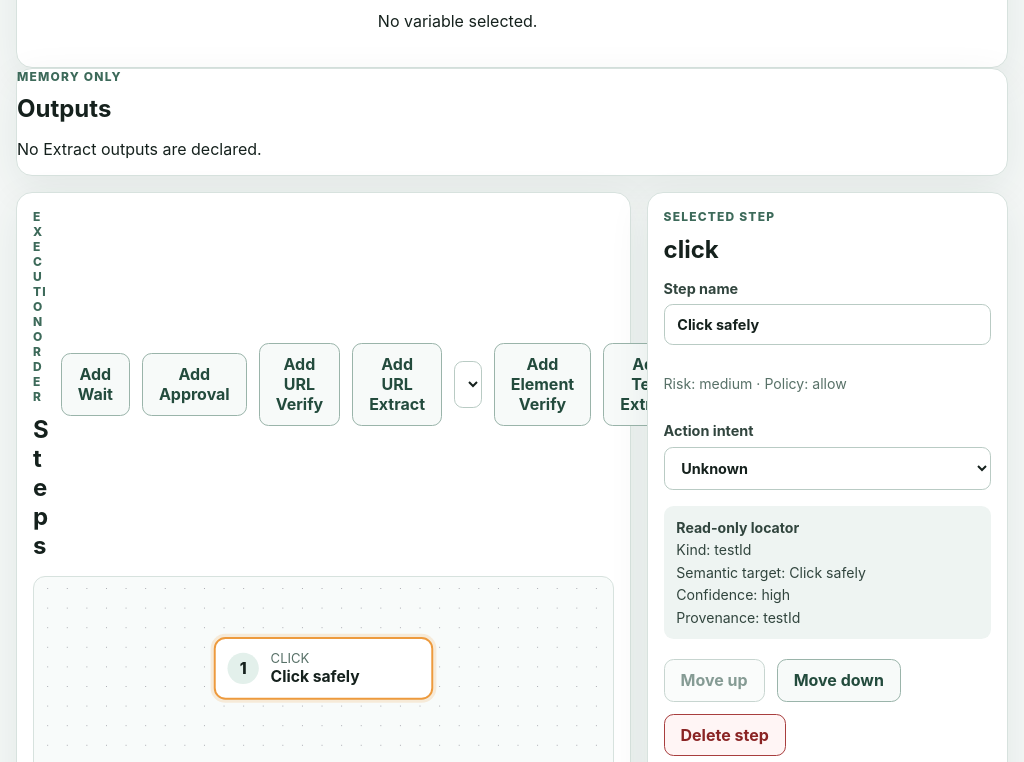
Scenario: WorkflowEditor › adds URL and locator-reuse Verify steps without exposing locator editing
(page scrolled)
Click the button "Add URL Verify": (299, 384) [259, 343, 340, 426]
(page scrolled)
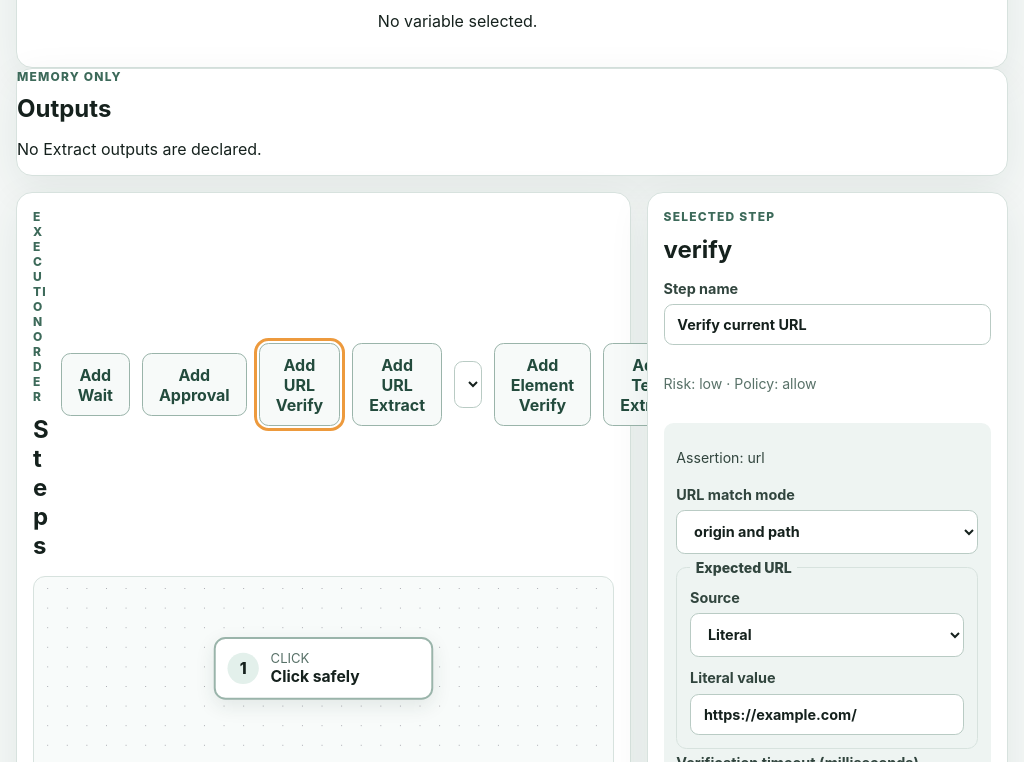
Expected: the dropdown labelled "URL match mode" is enabled, [676, 510, 978, 554]
Select "Click safely" in the dropdown named "Locator source step": (468, 385) [454, 361, 482, 408]
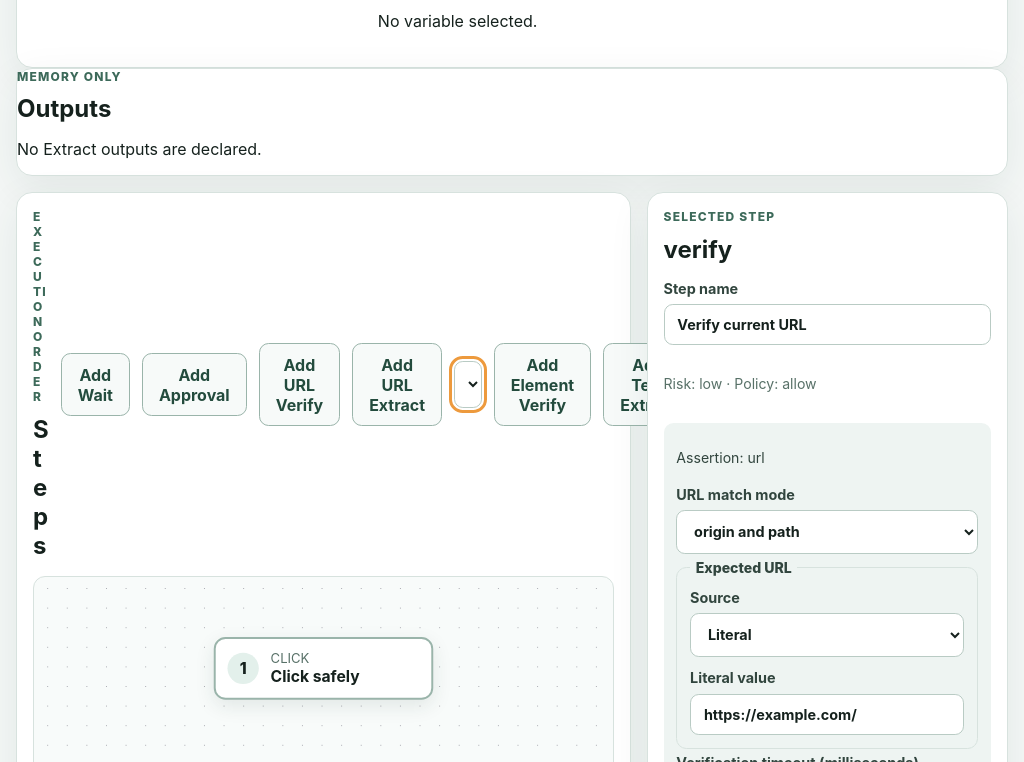
Click the button "Add Element Verify": (542, 385) [494, 343, 591, 426]
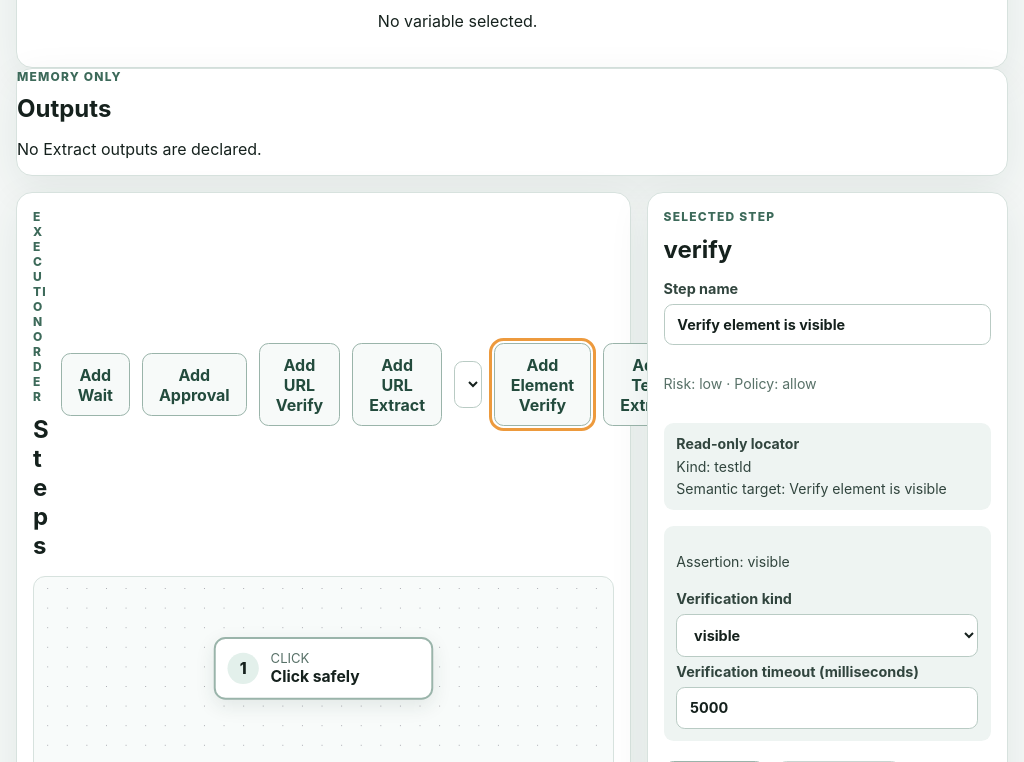
Now the text "Read-only locator" is shown, box [676, 435, 799, 452]
Now the text "Kind: testId" is shown, box [676, 458, 752, 475]
Select "text" in the dropdown labelled "Verification kind": (827, 636) [676, 614, 978, 657]
(page scrolled)
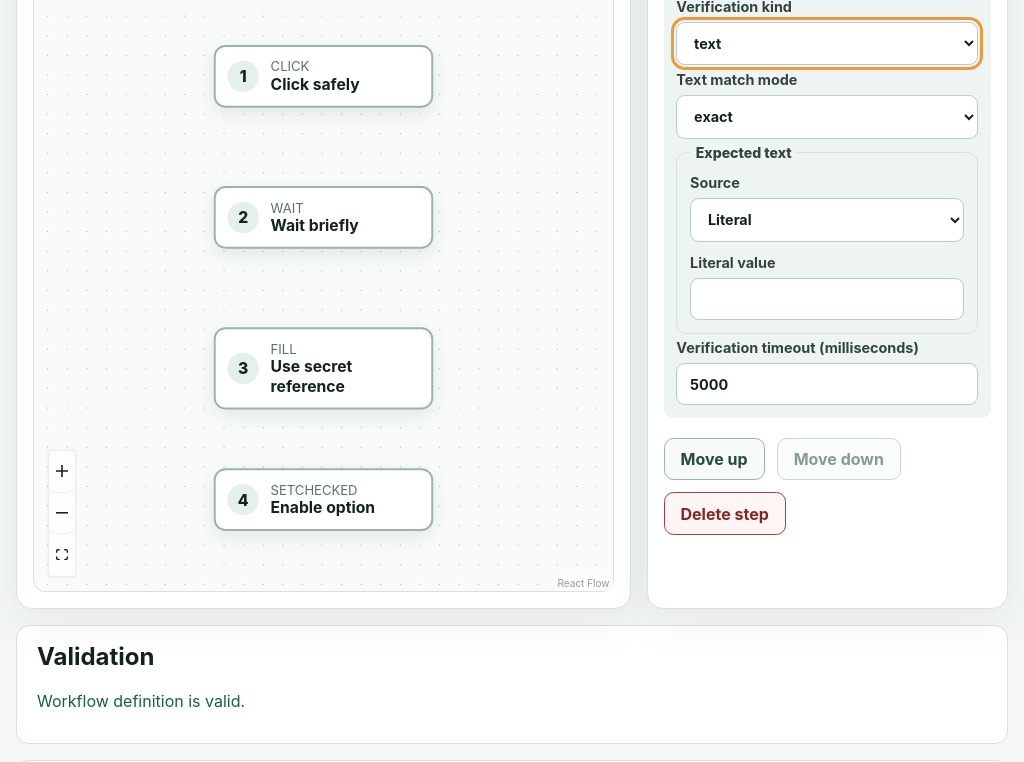
Now the dropdown labelled "Text match mode" is enabled, box [676, 95, 978, 139]
Replace the text in the number field labelled "Verification timeout (milliseconds)" with "99": (827, 384) [676, 363, 978, 405]
(page scrolled)
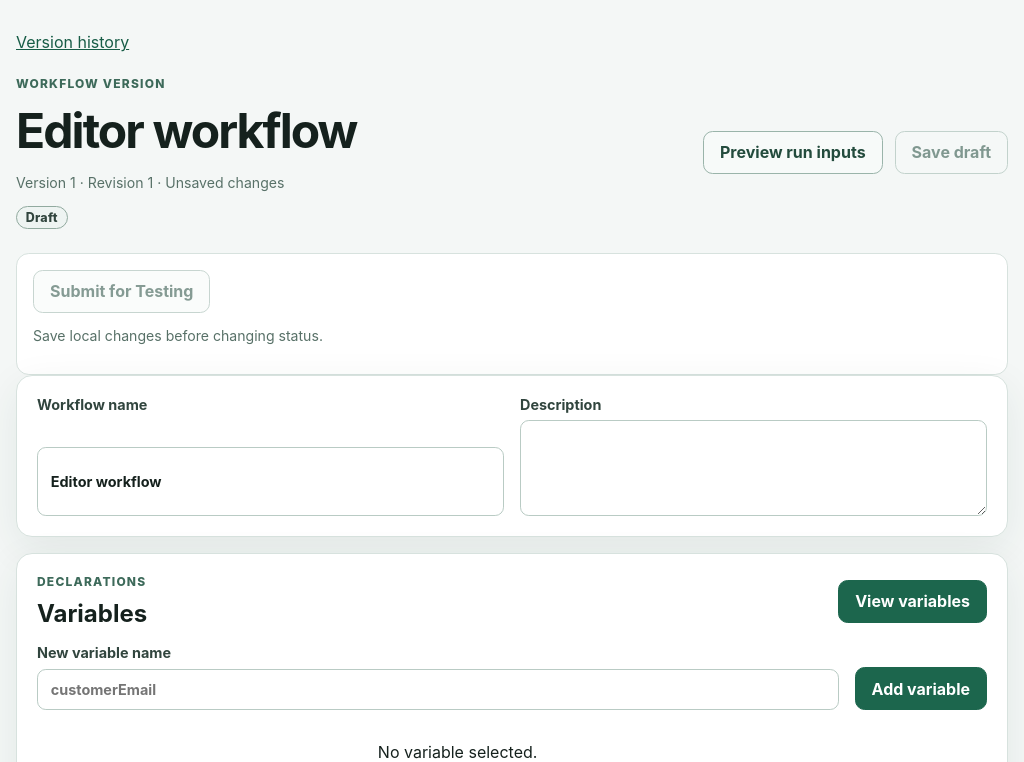
Now the button "Save draft" is disabled, box [895, 131, 1008, 174]
